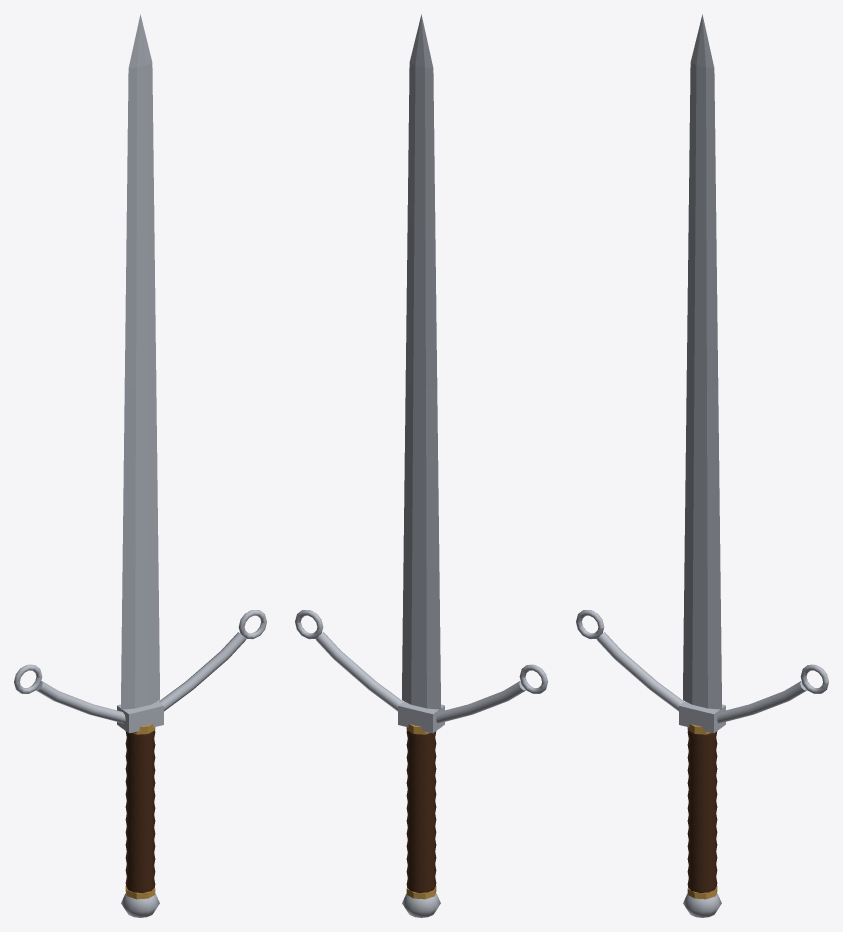
The model's file is claymore.glb.
The picture shows the model from 3 angles, left to right: view 1: azimuth 30°, elevation 25°; view 2: azimuth 150°, elevation 25°; view 3: azimuth 330°, elevation 25°; orthographic projection.
Visible parts, largest first — view 1: Claymore_Blade, Claymore_Grip, Claymore_Guard, Claymore_Pommel; view 2: Claymore_Blade, Claymore_Grip, Claymore_Guard, Claymore_Pommel; view 3: Claymore_Blade, Claymore_Grip, Claymore_Guard, Claymore_Pommel.
Part boxes in pixels (x1=…): Claymore_Blade: x1=121, y1=14, x2=159, y2=709; Claymore_Grip: x1=125, y1=730, x2=155, y2=892; Claymore_Guard: x1=14, y1=610, x2=266, y2=733; Claymore_Pommel: x1=121, y1=893, x2=159, y2=917; Claymore_Blade: x1=402, y1=14, x2=440, y2=709; Claymore_Grip: x1=406, y1=730, x2=436, y2=892; Claymore_Guard: x1=295, y1=610, x2=547, y2=733; Claymore_Pommel: x1=402, y1=893, x2=440, y2=917; Claymore_Blade: x1=683, y1=14, x2=721, y2=709; Claymore_Grip: x1=687, y1=730, x2=717, y2=892; Claymore_Guard: x1=576, y1=610, x2=828, y2=733; Claymore_Pommel: x1=683, y1=893, x2=721, y2=917.
Bounding box in the file's own units: 0.36 × 1.23 × 0.048.
